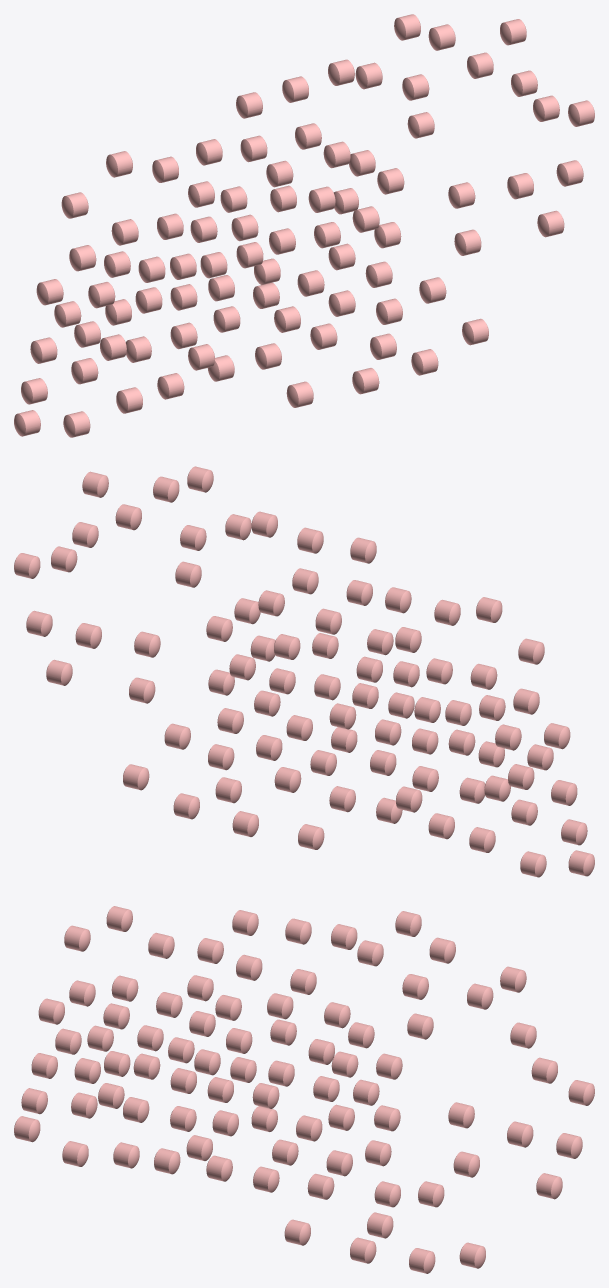
Rendered from 100-pills.glb.
3 renders of one model, top to bottom at view 1: azimuth 30°, elevation 25°; view 2: azimuth 150°, elevation 25°; view 3: azimuth 330°, elevation 25°, orthographic.
Parts seen in each view (by area): view 1: mesh_0.044, mesh_0.045, mesh_0.005, mesh_0.015, mesh_0.021, mesh_0.024, mesh_0.041, mesh_0.051, mesh_0.083, mesh_0.007, mesh_0.018, mesh_0.025 (+70 smaller); view 2: mesh_0.067, mesh_0.072, mesh_0.004, mesh_0.047, mesh_0.056, mesh_0.080, mesh_0.002, mesh_0.015, mesh_0.032, mesh_0.037, mesh_0.048, mesh_0.059 (+70 smaller); view 3: mesh_0.009, mesh_0.016, mesh_0.020, mesh_0.004, mesh_0.049, mesh_0.073, mesh_0.079, mesh_0.081, mesh_0, mesh_0.008, mesh_0.036, mesh_0.051 (+72 smaller).
Part boxes in pixels (<box>): mesh_0.044: <box>231,214,258,241</box>; mesh_0.045: <box>297,270,324,296</box>; mesh_0.005: <box>310,323,337,349</box>; mesh_0.015: <box>240,135,267,162</box>; mesh_0.021: <box>556,160,583,186</box>; mesh_0.024: <box>236,242,263,268</box>; mesh_0.041: <box>454,229,481,255</box>; mesh_0.051: <box>402,74,429,100</box>; mesh_0.083: <box>448,182,475,208</box>; mesh_0.007: <box>63,411,90,437</box>; mesh_0.018: <box>537,210,564,237</box>; mesh_0.025: <box>323,141,350,168</box>; mesh_0.067: <box>561,819,587,845</box>; mesh_0.072: <box>511,799,537,825</box>; mesh_0.004: <box>367,629,393,655</box>; mesh_0.047: <box>508,764,534,789</box>; mesh_0.056: <box>269,668,295,694</box>; mesh_0.080: <box>164,723,190,749</box>; mesh_0.002: <box>513,688,539,714</box>; mesh_0.015: <box>346,580,372,605</box>; mesh_0.032: <box>527,744,553,770</box>; mesh_0.037: <box>470,663,497,689</box>; mesh_0.048: <box>206,616,232,641</box>; mesh_0.059: <box>476,597,502,622</box>; mesh_0.009: <box>206,1155,232,1181</box>; mesh_0.016: <box>357,940,383,966</box>; mesh_0.020: <box>168,1037,194,1063</box>; mesh_0.004: <box>215,995,241,1020</box>; mesh_0.049: <box>64,925,90,951</box>; mesh_0.073: <box>285,918,311,944</box>; mesh_0.079: <box>133,1053,160,1079</box>; mesh_0.081: <box>429,937,455,963</box>; mesh_0: <box>154,1148,180,1174</box>; mesh_0.008: <box>348,1022,374,1048</box>; mesh_0.036: <box>267,993,293,1019</box>; mesh_0.051: <box>402,974,428,999</box>.
Bounding box in the file's own units: 0.0586 × 0.035 × 0.00318.
